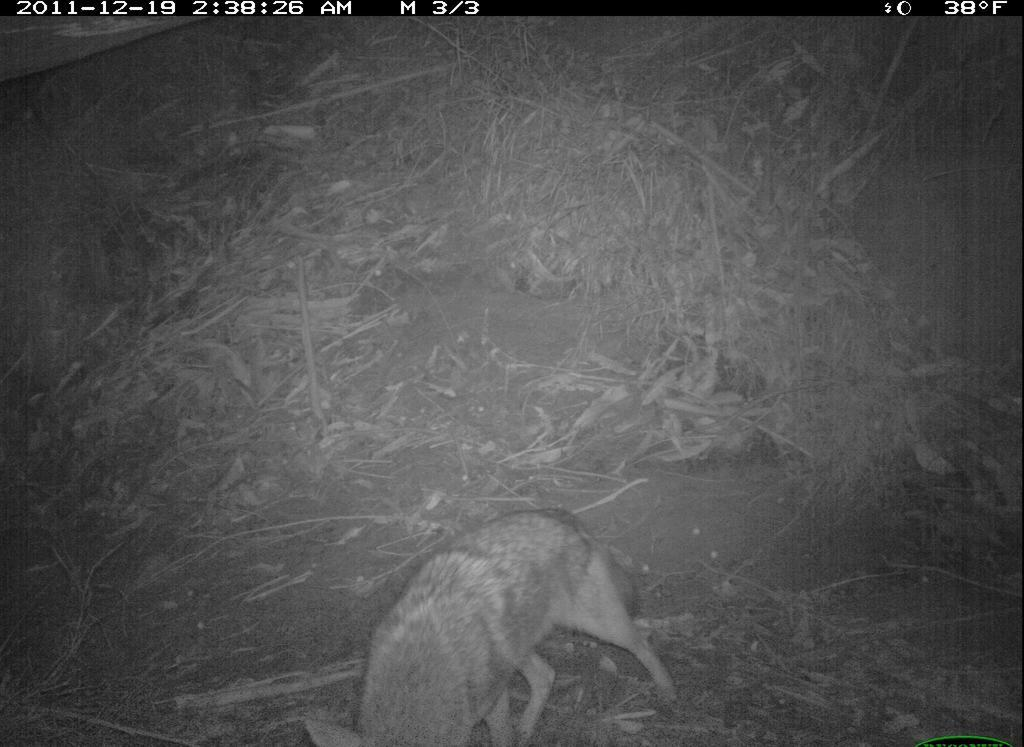coyote: (292, 500, 684, 745)
